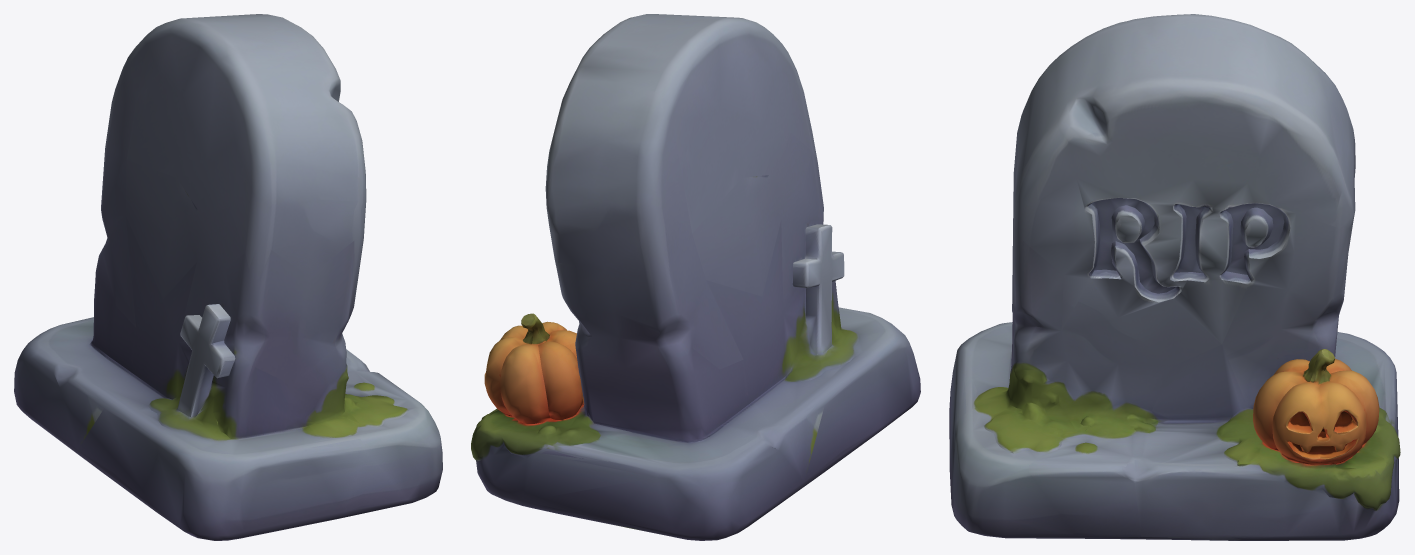
The model's file is S12_Gravestone_LOD0.fbx.
The picture shows the model from 3 angles, left to right: view 1: azimuth 30°, elevation 25°; view 2: azimuth 150°, elevation 25°; view 3: azimuth 270°, elevation 25°; orthographic projection. The views are drawn at different scales.
Parts seen in each view (by area): view 1: S12_Gravestone_LOD0; view 2: S12_Gravestone_LOD0; view 3: S12_Gravestone_LOD0.
Part boxes in pixels (x1,y1,x2,y2): S12_Gravestone_LOD0: [14, 14, 442, 540]; S12_Gravestone_LOD0: [471, 14, 920, 540]; S12_Gravestone_LOD0: [949, 14, 1400, 540].
Bounding box in the file's own units: 0.5939 × 0.9004 × 0.8087.
Materials: 1 (1 with a texture image).
